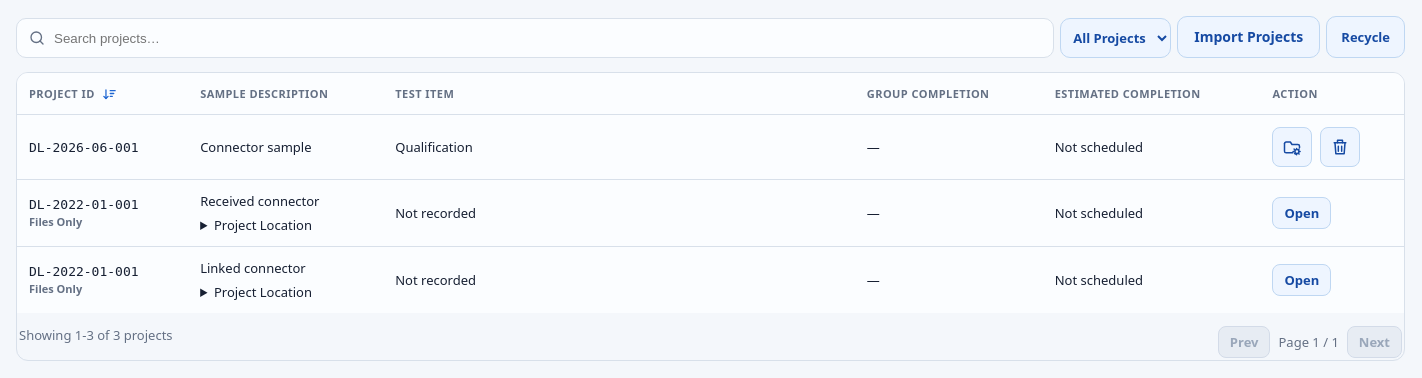
Test: ProjectListPage lifecycle registry views › finds registered, received and linked projects through one homepage search without a Library entry
The image size is (1422, 378).
expect the text "Received connector" is shown: met, box left=200, top=192, right=320, bottom=210
expect the text "Linked connector" is shown: met, box left=200, top=259, right=306, bottom=277
Click the button with aria-label "Open Received connector" at x=1302, y=213, box left=1272, top=197, right=1331, bottom=229
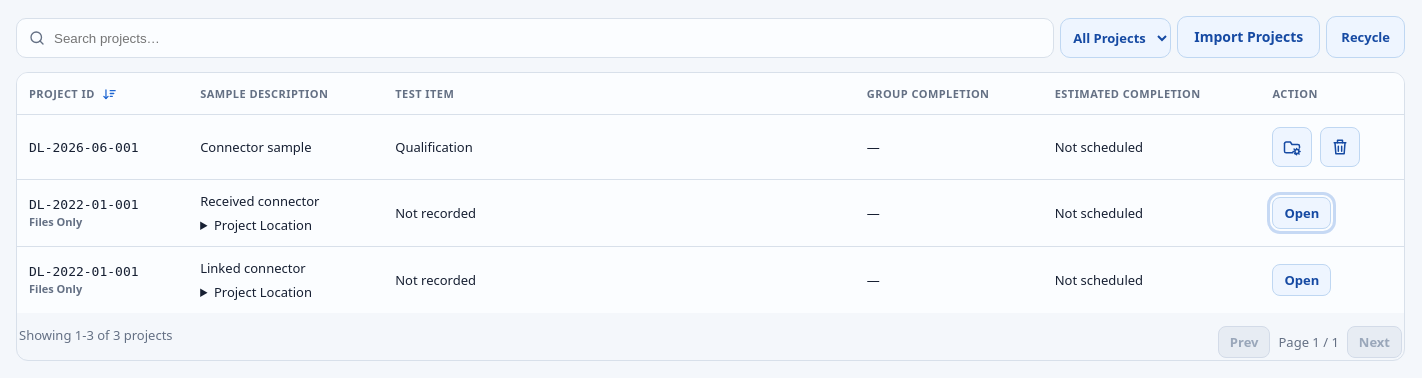
Click the button with aria-label "Open Linked connector" at x=1302, y=280, box left=1272, top=264, right=1331, bottom=296
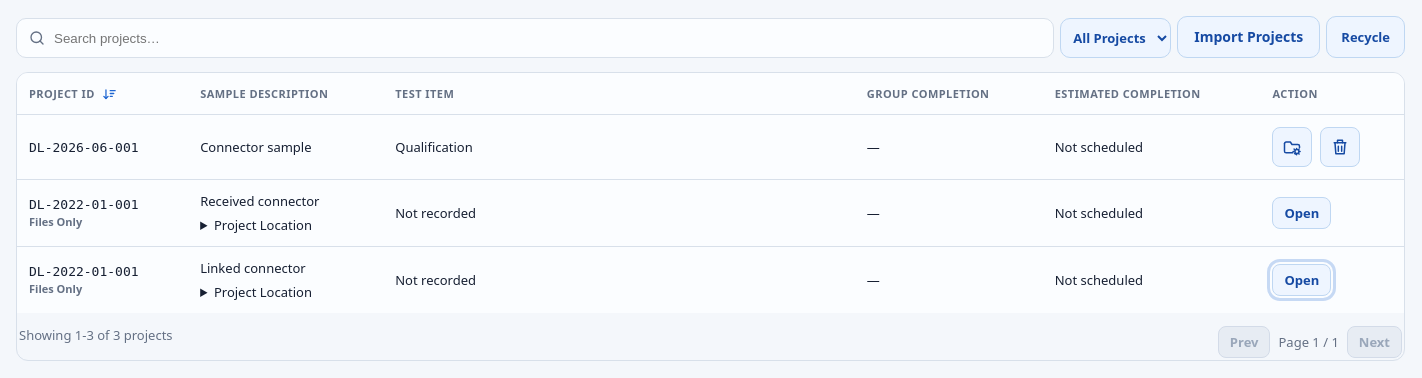
Type "D:/old/linked" into the field labelled "Search projects" at x=548, y=38, box left=54, top=19, right=1042, bottom=57
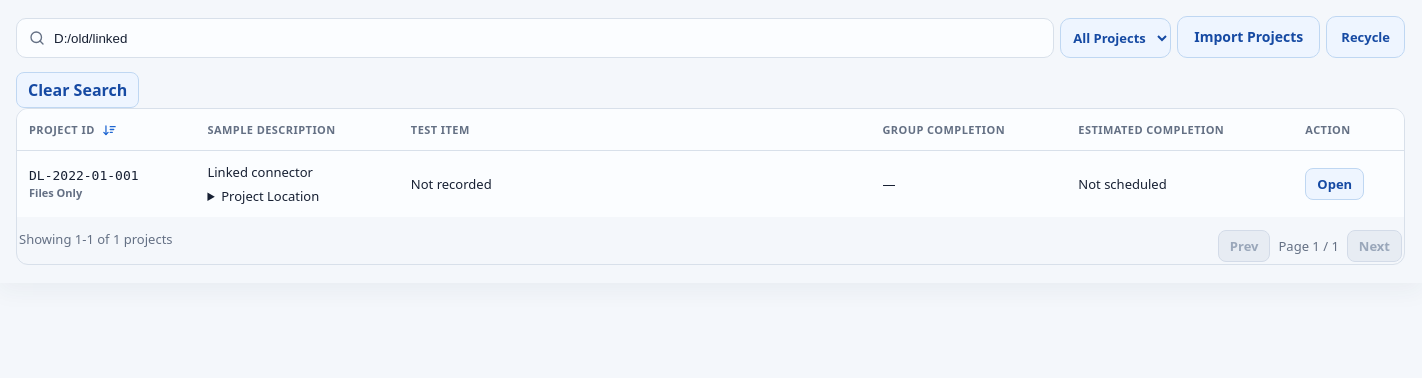
expect the text "Linked connector" is shown: met, box left=207, top=163, right=313, bottom=181
expect the text "Received connector" is gone: met
Replace the text in the field named "Search projects" with "Ada Operator" at x=548, y=38, box left=54, top=19, right=1042, bottom=57
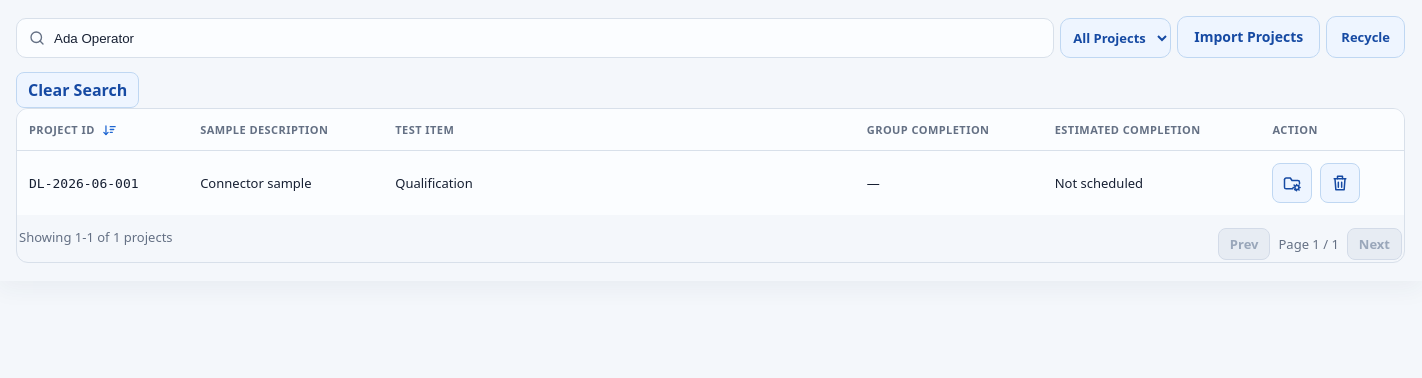
expect the text "Connector sample" is shown: met, box left=188, top=150, right=383, bottom=215
expect the text "Linked connector" is gone: met
